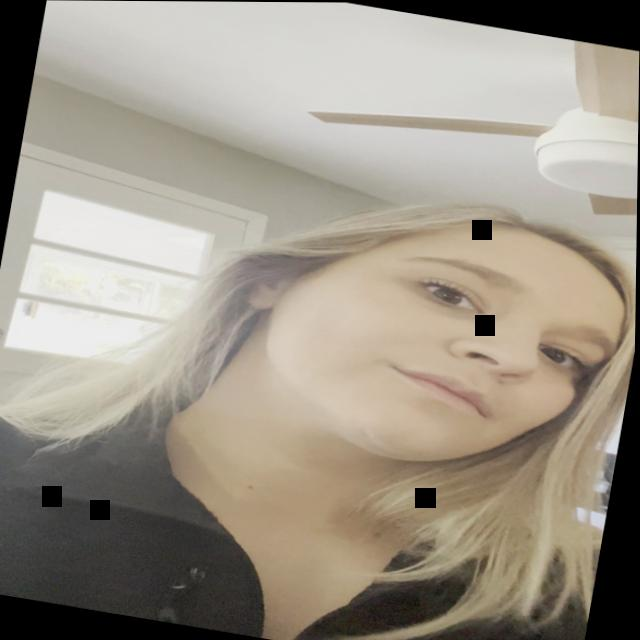NO-Mask: (253, 191, 638, 493)
